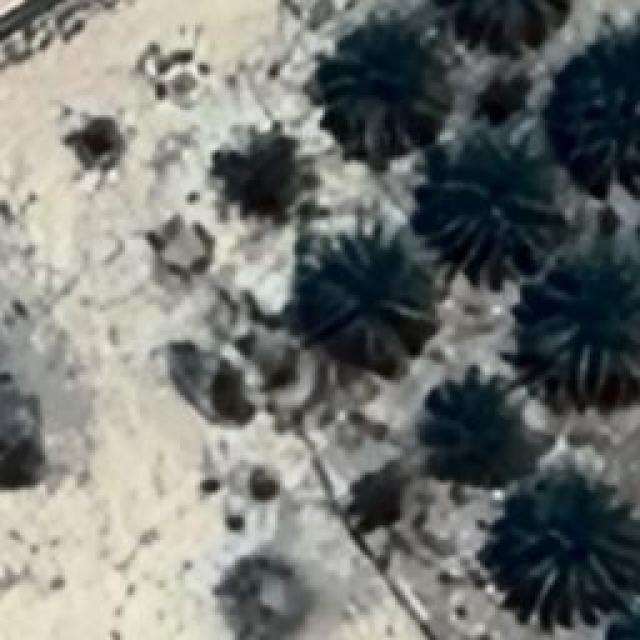PalmTree: (298, 242, 422, 370), (422, 172, 560, 280), (117, 32, 510, 66), (530, 280, 640, 400), (322, 29, 442, 139), (418, 394, 532, 498), (555, 46, 640, 176), (518, 512, 632, 598), (219, 134, 299, 202), (71, 66, 117, 146), (609, 594, 640, 640)
